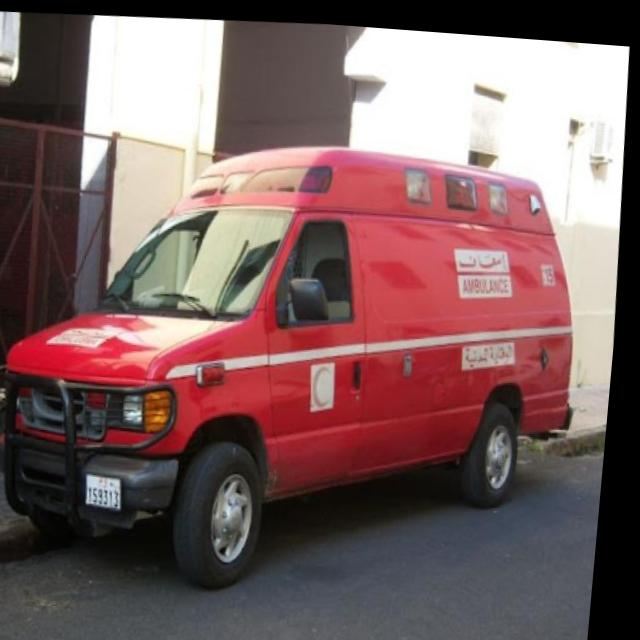ambulance: (0, 73, 619, 627)
